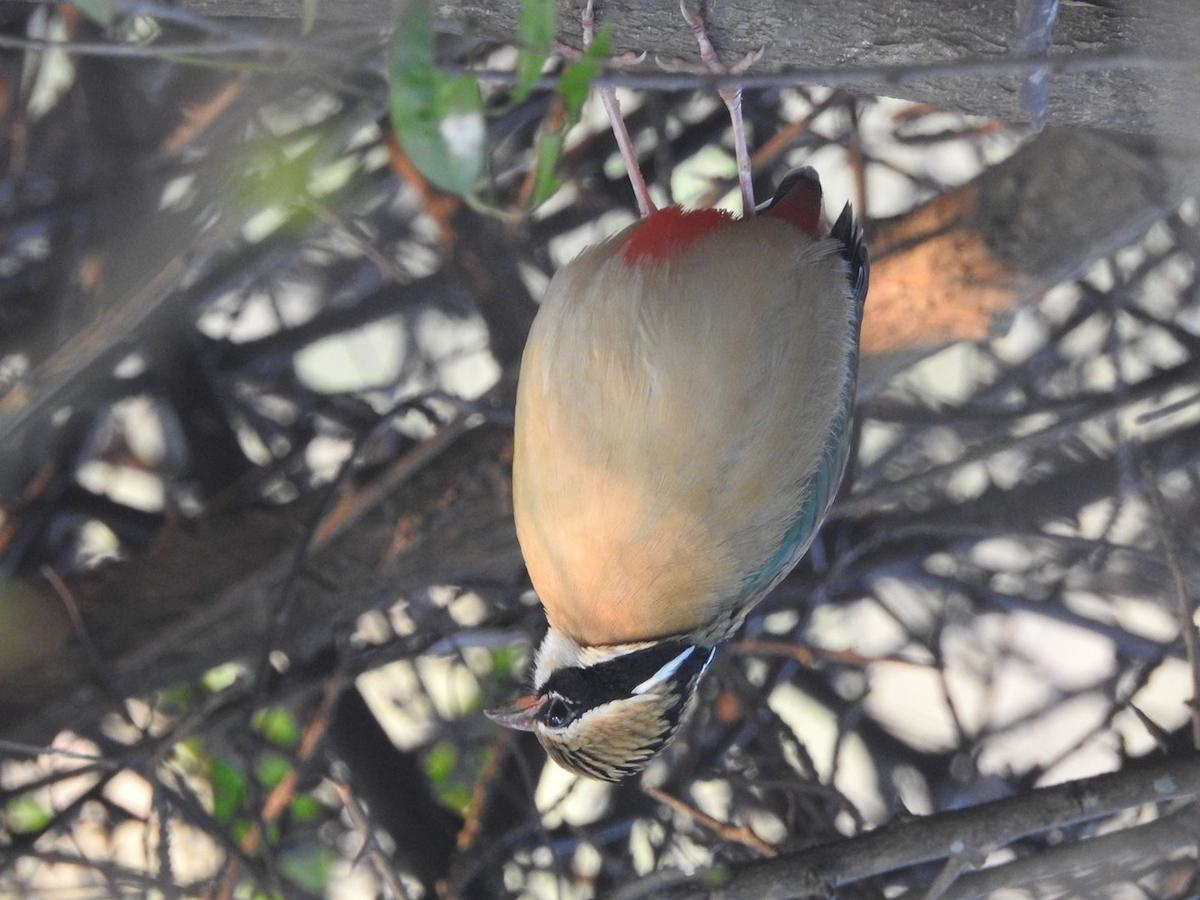pitta: (484, 90, 891, 814)
